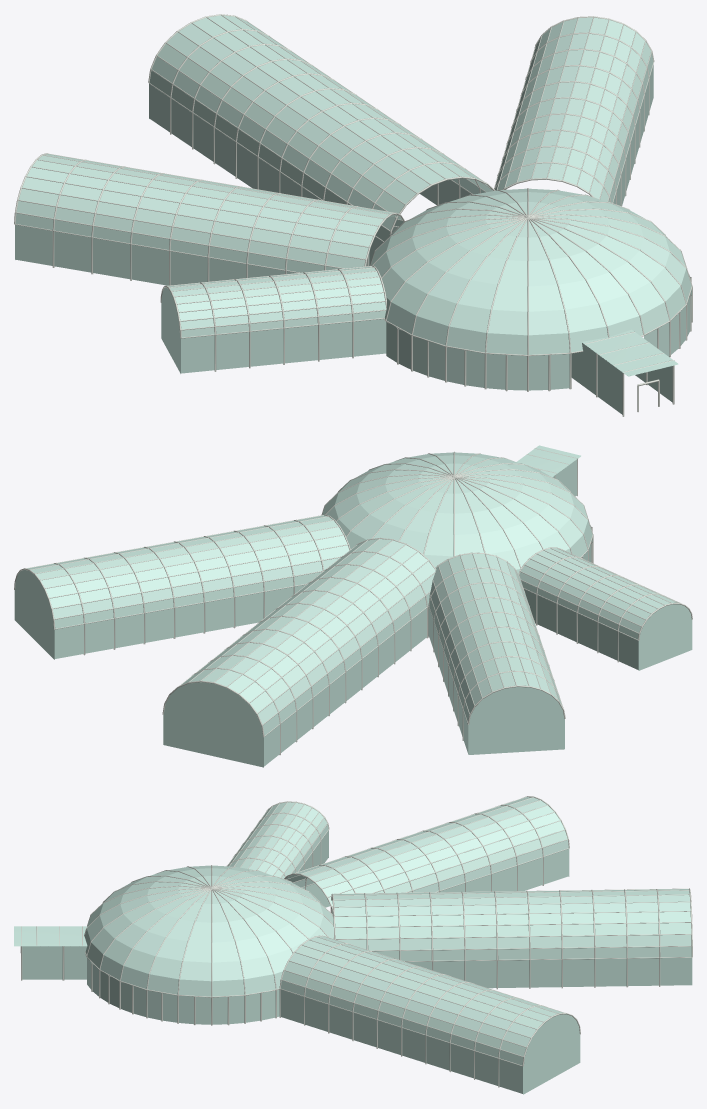
Rendered from greenhouse-glass-roof-shell.glb.
The picture shows the model from 3 angles, top to bottom: view 1: azimuth 30°, elevation 25°; view 2: azimuth 150°, elevation 25°; view 3: azimuth 270°, elevation 25°; orthographic projection. The views are drawn at different scales.
Visible parts, largest first — view 1: shell-material-3-0, shell-material-2-1, shell-material-2-2, shell-material-2-0, shell-material-2-3; view 2: shell-material-3-0, shell-material-2-1, shell-material-2-2, shell-material-2-0, shell-material-2-3; view 3: shell-material-3-0, shell-material-2-1, shell-material-2-2, shell-material-2-0, shell-material-2-3.
Boxes of the visible parts, x1,y1,x2,y2 form: shell-material-3-0: (15,15,691,414); shell-material-2-1: (22,14,626,247); shell-material-2-2: (397,16,692,391); shell-material-2-0: (14,153,404,371); shell-material-2-3: (370,201,674,416); shell-material-3-0: (14,445,692,767); shell-material-2-1: (162,514,550,755); shell-material-2-2: (14,451,593,655); shell-material-2-0: (428,547,692,740); shell-material-2-3: (423,448,588,569); shell-material-3-0: (14,797,692,1094); shell-material-2-1: (279,796,692,1019); shell-material-2-2: (84,870,580,1087); shell-material-2-0: (227,796,569,913); shell-material-2-3: (20,865,333,980).
Bounding box in the file's own units: 77.45 × 12.07 × 89.3.
